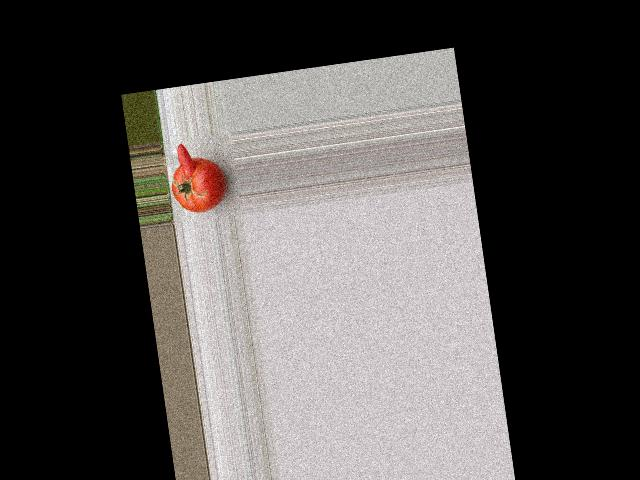tomato: (168, 154, 228, 216)
